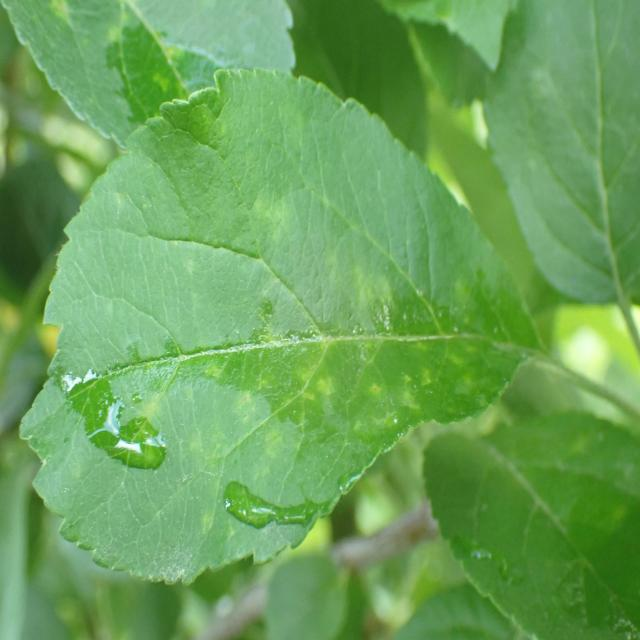scab: (49, 92, 520, 460)
